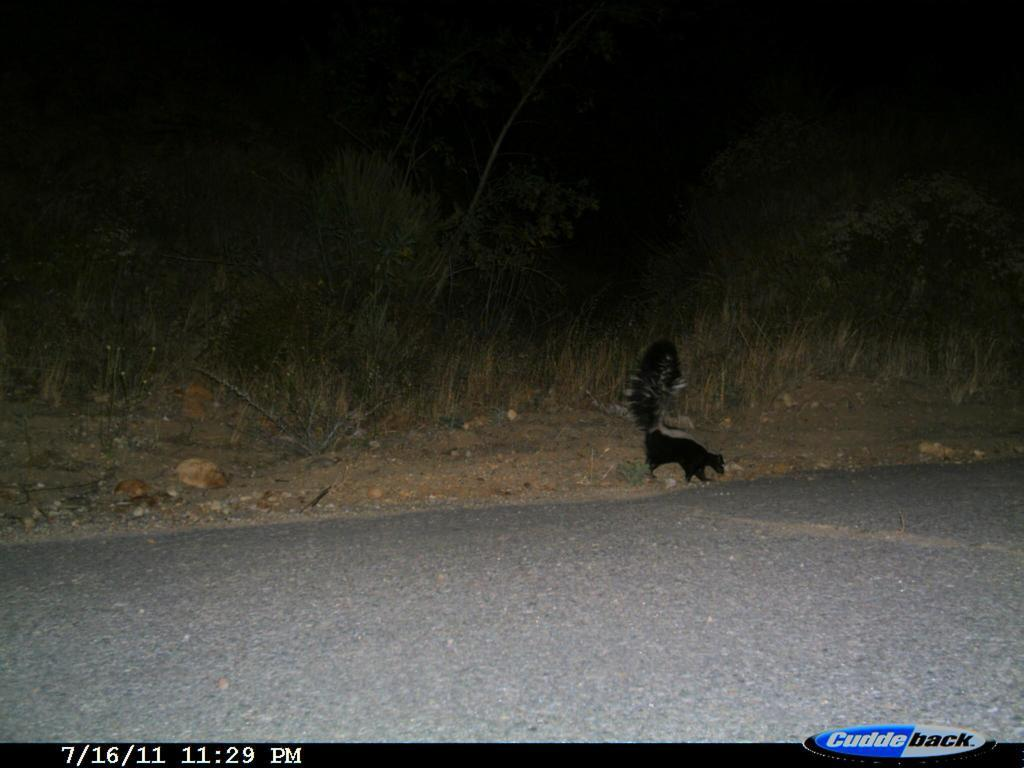skunk: (624, 329, 733, 495)
